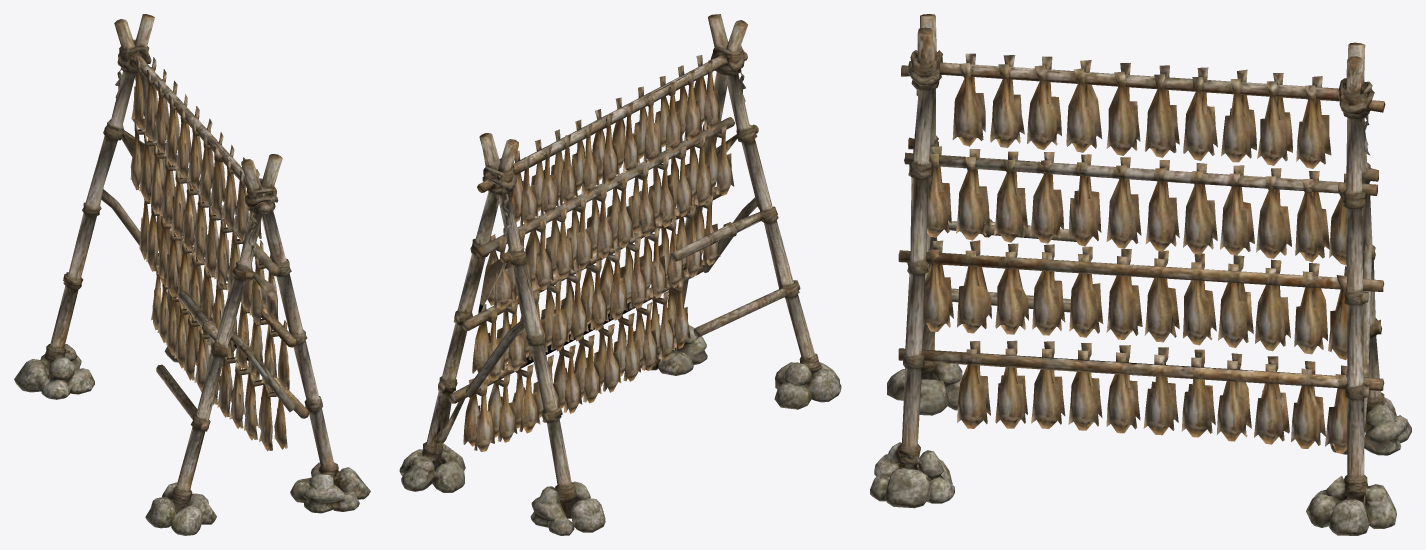
Rendered from kit_sf_rack_tall.glb.
3 views of the same model, side by side, from view 1: azimuth 30°, elevation 25°; view 2: azimuth 150°, elevation 25°; view 3: azimuth 270°, elevation 25° (orthographic). The views are drawn at different scales.
Visible parts, largest first — view 1: kit_sf_rack_tall; view 2: kit_sf_rack_tall; view 3: kit_sf_rack_tall.
Part boxes in pixels (x1,y1,x2,y2): kit_sf_rack_tall: (14, 14, 370, 535); kit_sf_rack_tall: (399, 14, 841, 535); kit_sf_rack_tall: (870, 14, 1411, 535).
Size of the model in its own units: 2.25 by 3 by 3.4.
1 material, 1 textured.
